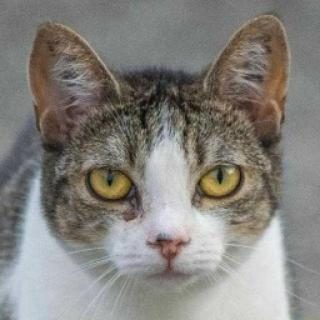cat: (20, 15, 294, 301)
nose: (145, 216, 193, 259)
